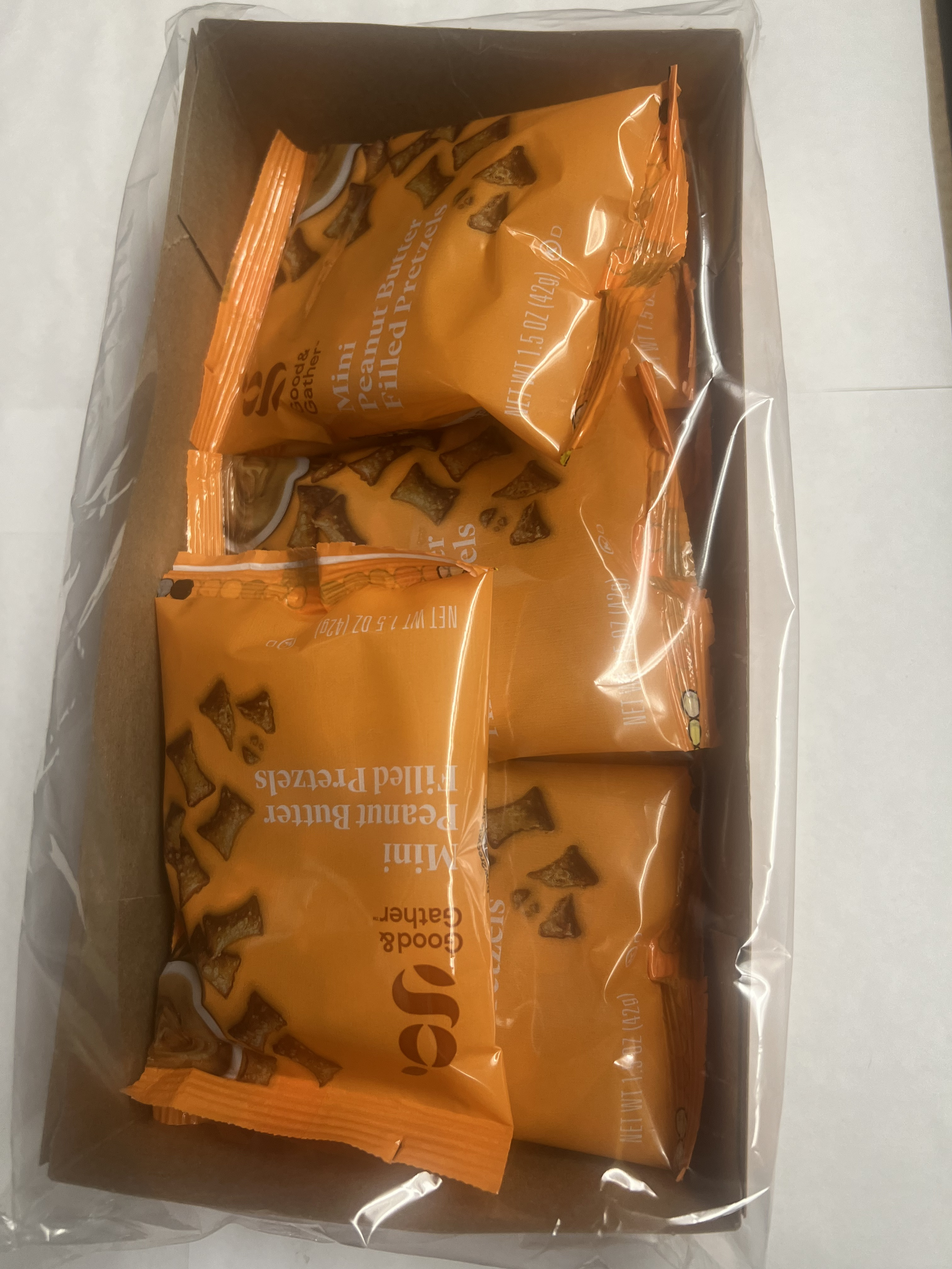packaged: (144, 68, 721, 1190)
